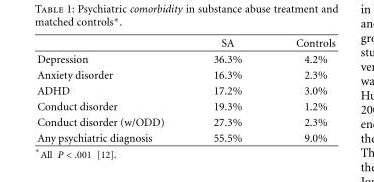table: (36, 36, 334, 143)
table column: (36, 36, 188, 143), (188, 36, 268, 143), (268, 36, 334, 143)
table column header: (36, 36, 334, 50)
table row: (36, 50, 334, 66), (36, 66, 334, 82), (36, 82, 334, 98), (36, 113, 334, 129), (36, 98, 334, 113), (36, 36, 334, 50), (36, 129, 334, 143)
